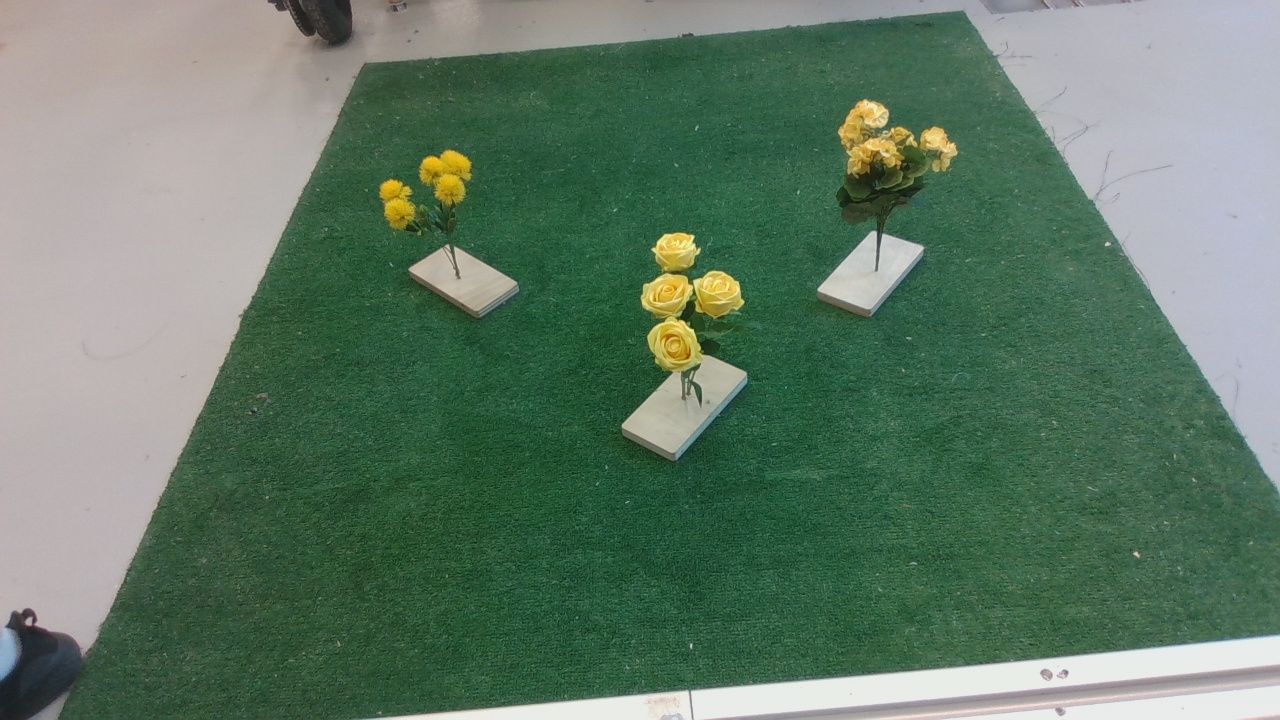dandelion: (372, 147, 493, 252)
geranium: (836, 92, 966, 236)
rose: (637, 222, 758, 391)
